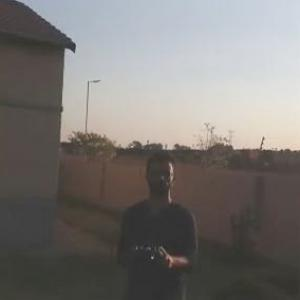follow: (110, 145, 201, 299)
